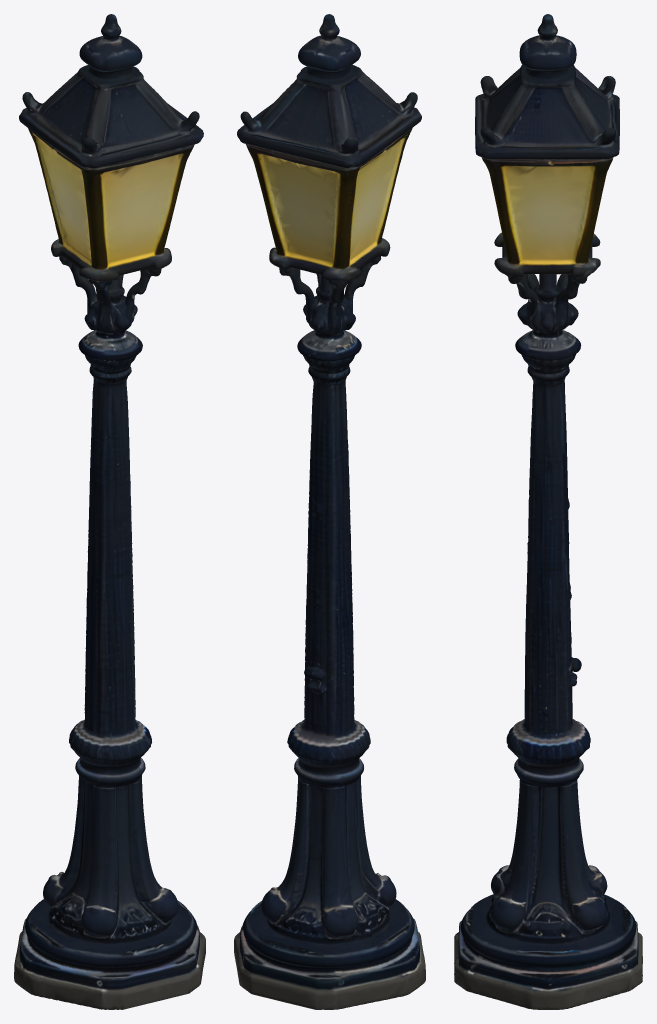
File: plaza-lamp-post.glb
3 views of the same model, side by side, from view 1: azimuth 30°, elevation 25°; view 2: azimuth 150°, elevation 25°; view 3: azimuth 270°, elevation 25° (orthographic).
Parts seen in each view (by area): view 1: tripo_node_622d38a8-55ef-44a2-9292-9f109d88a869; view 2: tripo_node_622d38a8-55ef-44a2-9292-9f109d88a869; view 3: tripo_node_622d38a8-55ef-44a2-9292-9f109d88a869.
Boxes of the visible parts, x1,y1,x2,y2 form: tripo_node_622d38a8-55ef-44a2-9292-9f109d88a869: (14,14,205,1009); tripo_node_622d38a8-55ef-44a2-9292-9f109d88a869: (234,14,425,1009); tripo_node_622d38a8-55ef-44a2-9292-9f109d88a869: (454,14,642,1009).
Bounding box in the file's own units: 0.7744 × 4 × 0.7173.
1 material, 1 textured.
